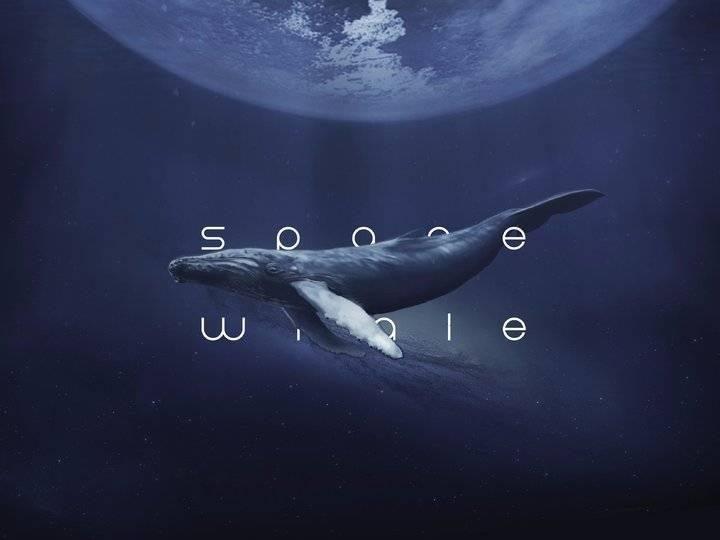fish: (161, 181, 601, 363)
